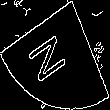N_NE: (31, 25, 79, 85)
